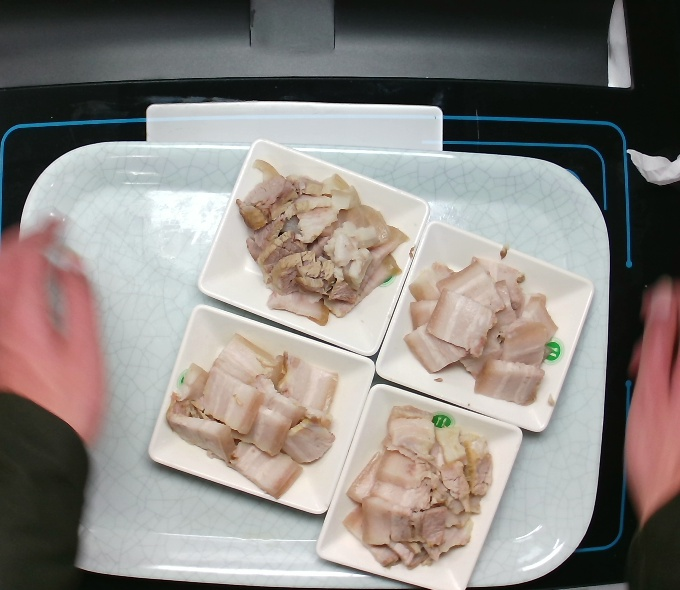wcq-BaiQieRou: (234, 158, 405, 328), (172, 326, 343, 496), (325, 401, 496, 571), (398, 246, 569, 416)
